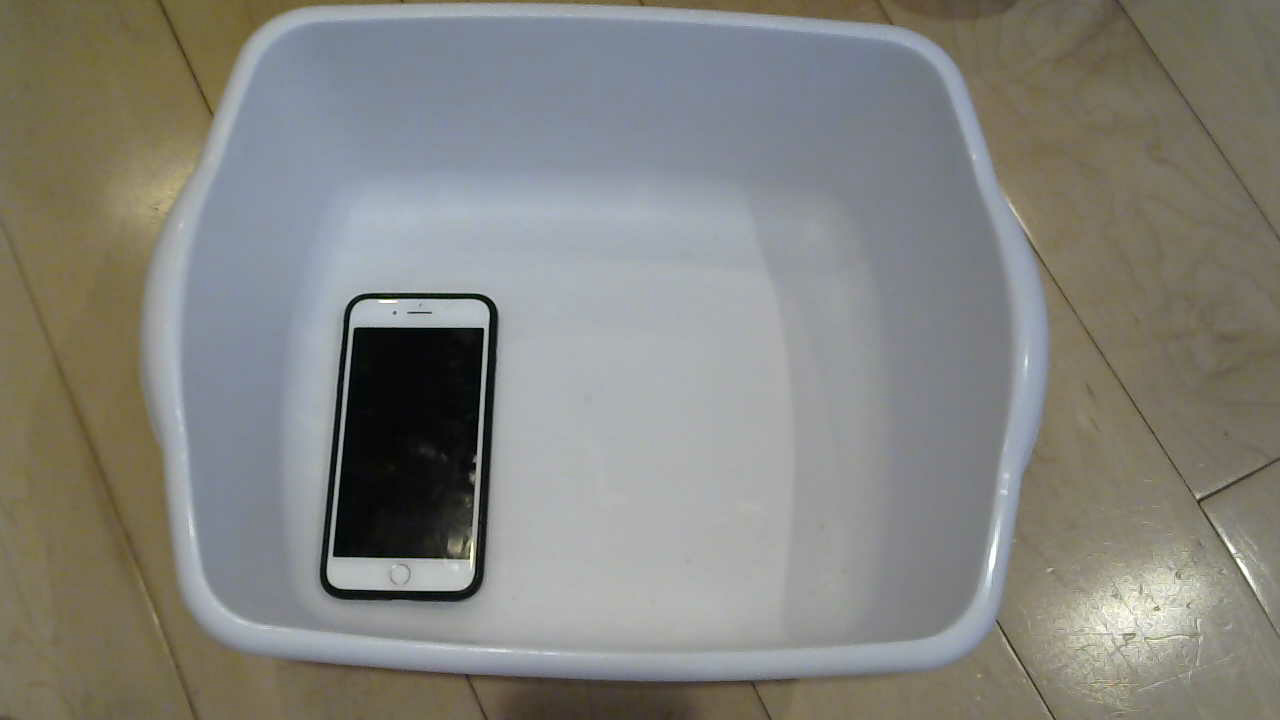phone: (325, 291, 510, 602)
